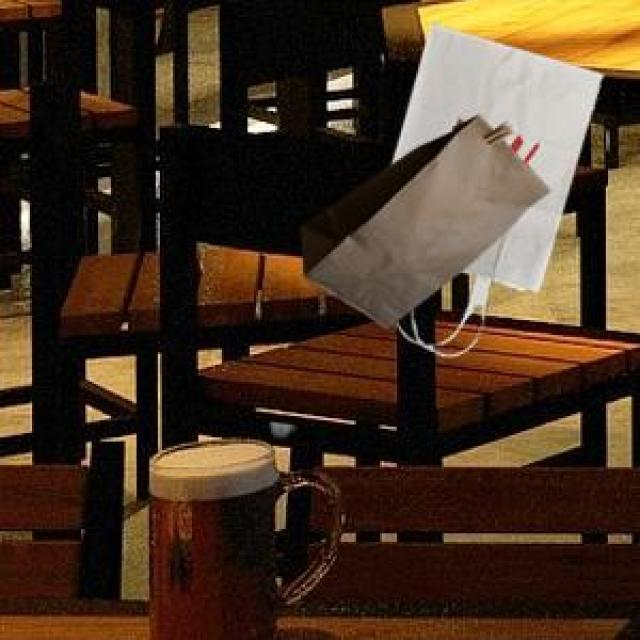paper: (388, 19, 600, 318), (297, 111, 546, 324)
